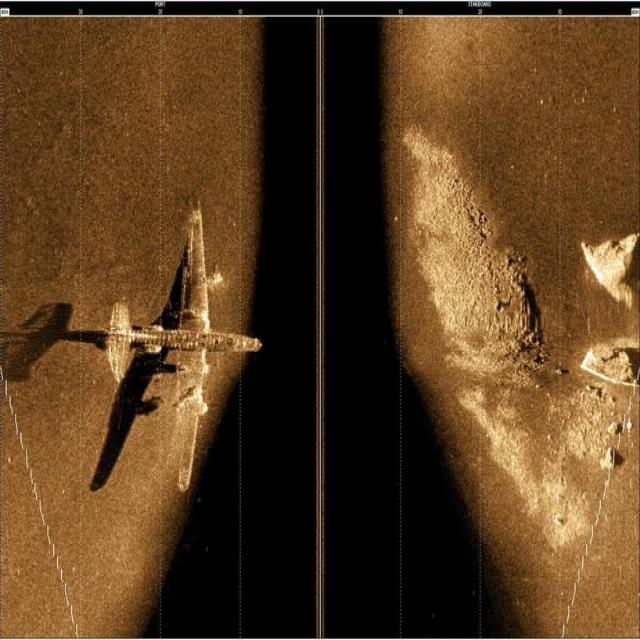plane: (102, 206, 270, 493)
